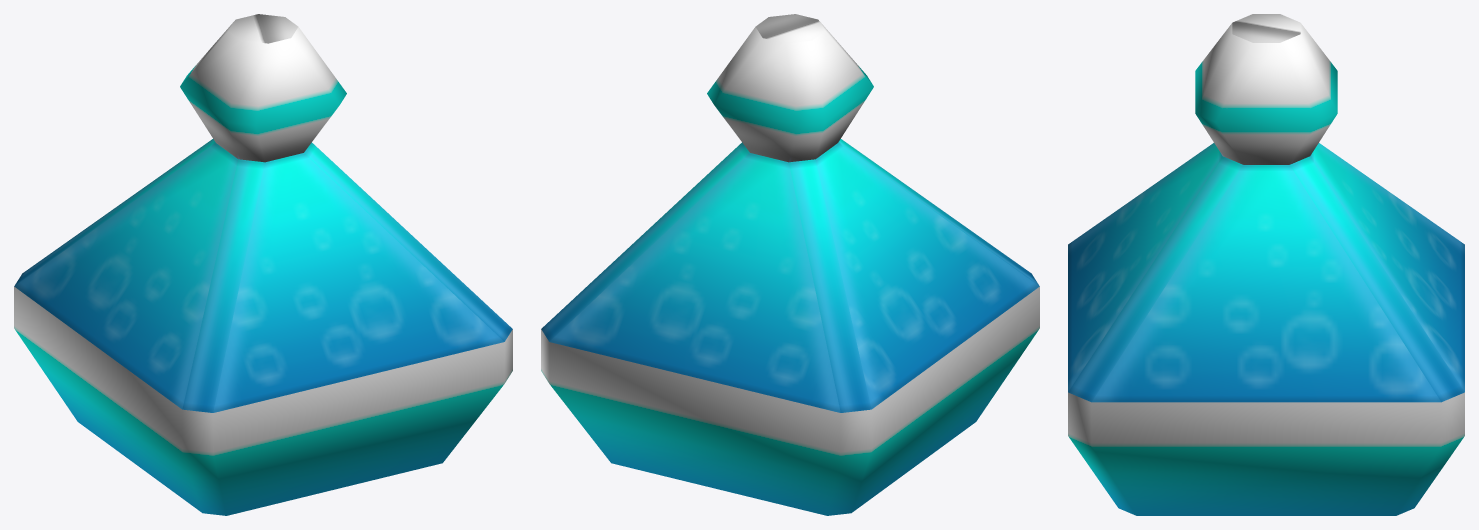
Rendered from potion_b2.FBX.
3 renders of one model, left to right at view 1: azimuth 30°, elevation 25°; view 2: azimuth 150°, elevation 25°; view 3: azimuth 270°, elevation 25°, orthographic. The views are drawn at different scales.
Parts seen in each view (by area): view 1: potion_b2; view 2: potion_b2; view 3: potion_b2.
Boxes of the visible parts, bbox=[...] form: potion_b2: bbox=[14, 14, 512, 515]; potion_b2: bbox=[541, 14, 1039, 515]; potion_b2: bbox=[1068, 14, 1464, 515].
Bounding box in the file's own units: 59.87 × 70.75 × 59.87.
